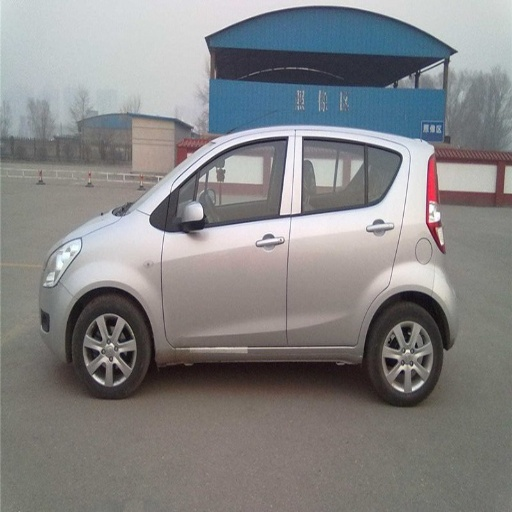back_glass: (300, 22, 371, 69)
back_left_door: (287, 132, 406, 346)
front_left_door: (162, 133, 296, 347)
